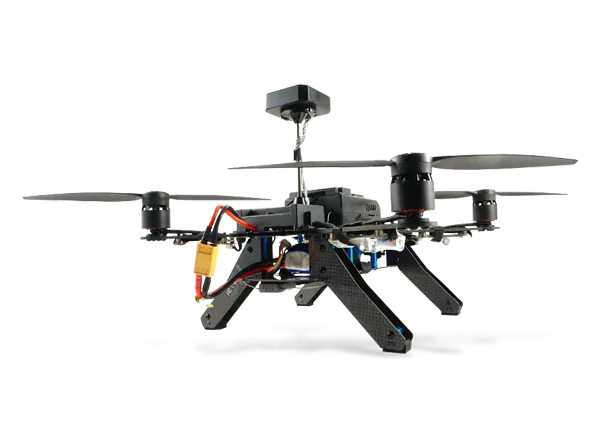drone: (19, 82, 581, 355)
